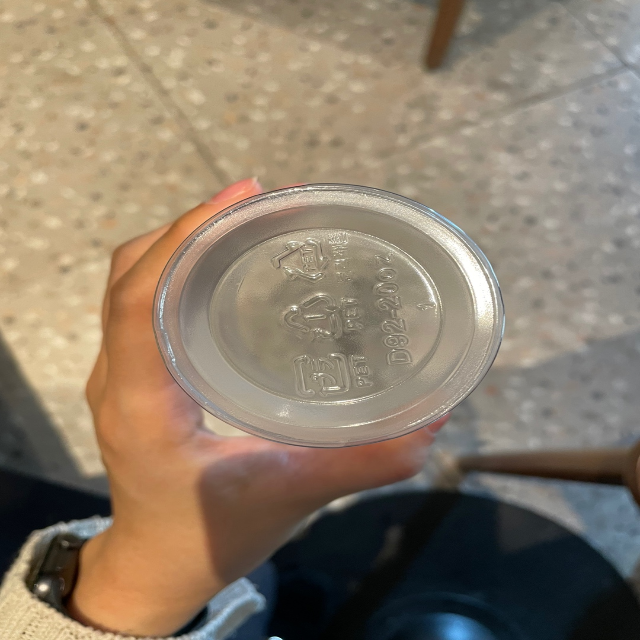pet: (270, 229, 357, 287), (279, 290, 373, 343), (289, 347, 378, 399)
